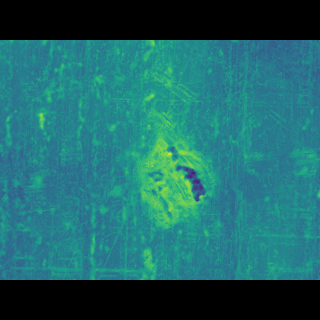Loch: (132, 136, 213, 209), (103, 110, 178, 136), (152, 88, 193, 118)
